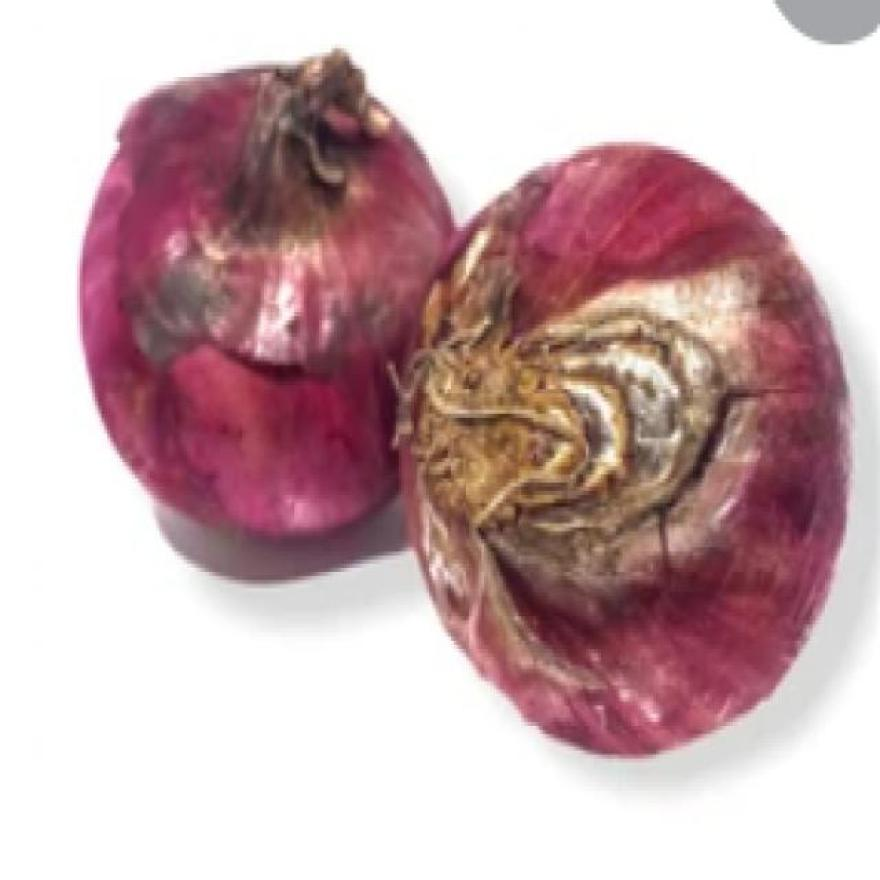Rotten: (432, 312, 754, 556), (134, 93, 322, 369)
